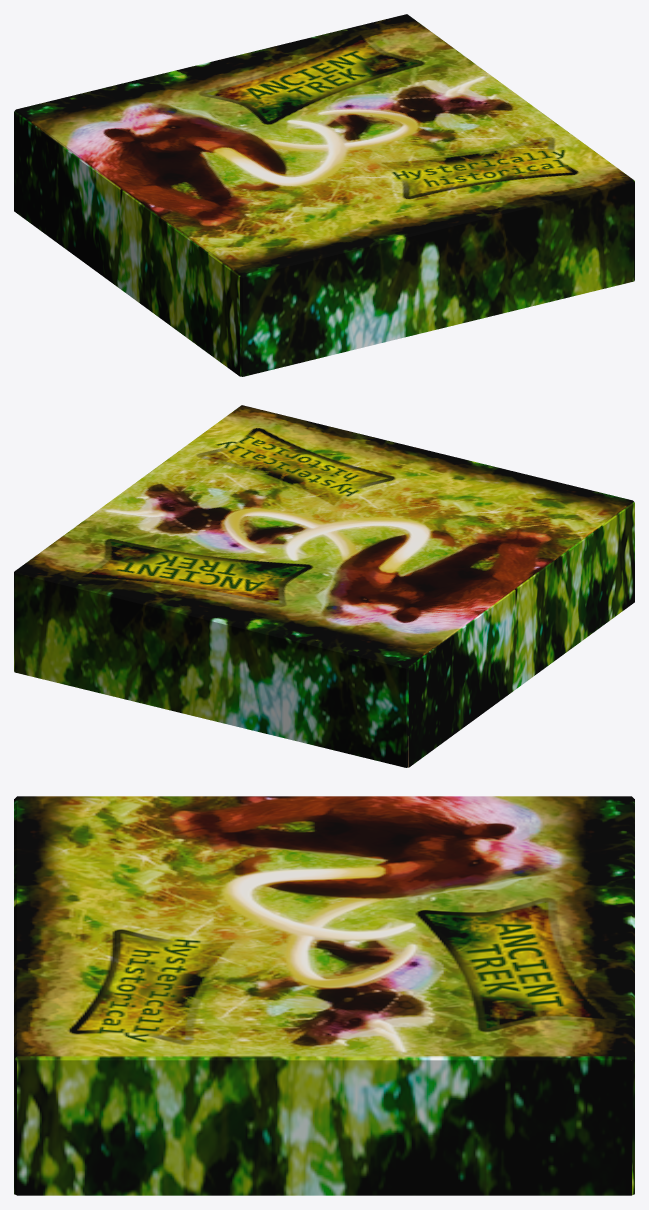
The model's file is Boardgame_Box_Top_1.fbx.
The picture shows the model from 3 angles, top to bottom: view 1: azimuth 30°, elevation 25°; view 2: azimuth 150°, elevation 25°; view 3: azimuth 270°, elevation 25°; orthographic projection. The views are drawn at different scales.
Parts seen in each view (by area): view 1: BoardgameBox_Top_1_LOD0; view 2: BoardgameBox_Top_1_LOD0; view 3: BoardgameBox_Top_1_LOD0.
Part boxes in pixels (box(x1,y1,x2,y2)): BoardgameBox_Top_1_LOD0: box(14, 14, 634, 376); BoardgameBox_Top_1_LOD0: box(14, 405, 634, 767); BoardgameBox_Top_1_LOD0: box(14, 796, 634, 1195).
Size of what is drawn, in the model's own units: 0.3 by 0.0735 by 0.3.
